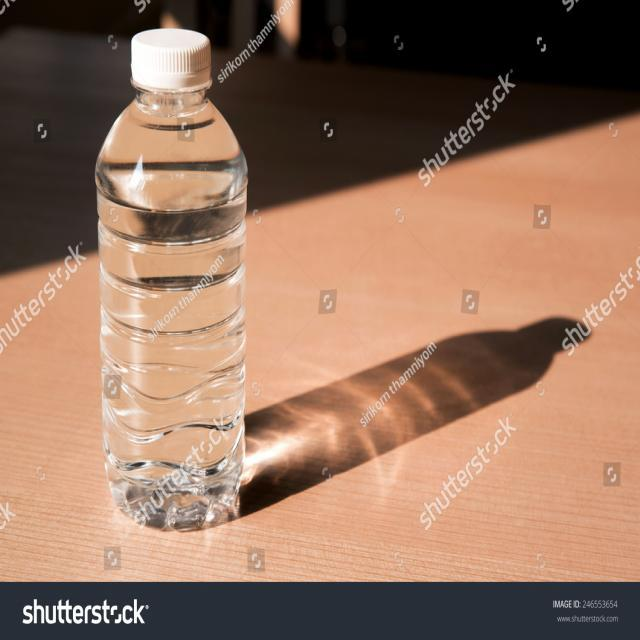plastic_bottle: (94, 29, 248, 532)
